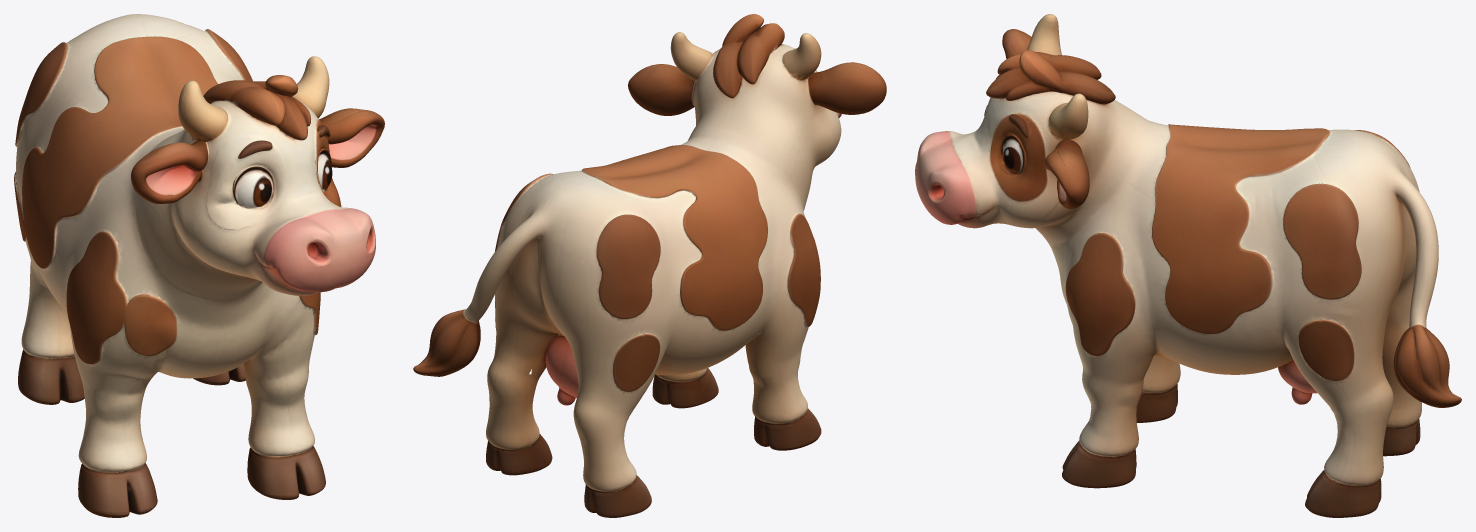
Rendered from Cow.glb.
3 renders of one model, left to right at view 1: azimuth 30°, elevation 25°; view 2: azimuth 150°, elevation 25°; view 3: azimuth 270°, elevation 25°, orthographic. The views are drawn at different scales.
Parts seen in each view (by area): view 1: tripo_node_fb498a34-dd82-475e-89c9-b44baaa07364; view 2: tripo_node_fb498a34-dd82-475e-89c9-b44baaa07364; view 3: tripo_node_fb498a34-dd82-475e-89c9-b44baaa07364.
Boxes of the visible parts, x1=… form: tripo_node_fb498a34-dd82-475e-89c9-b44baaa07364: x1=14, y1=14, x2=384, y2=517; tripo_node_fb498a34-dd82-475e-89c9-b44baaa07364: x1=413, y1=14, x2=886, y2=517; tripo_node_fb498a34-dd82-475e-89c9-b44baaa07364: x1=915, y1=14, x2=1461, y2=517.
Size of the model in its own units: 0.6194 by 0.8141 by 0.9806.
Materials: 1 (1 with a texture image).
